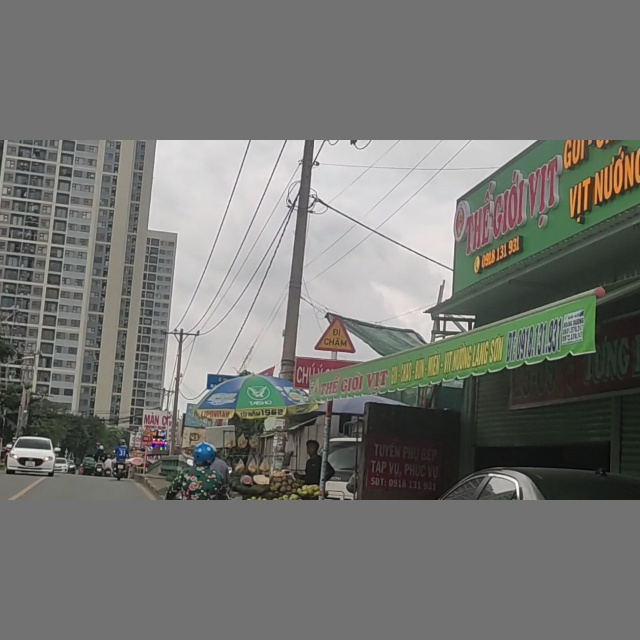W.245a: (313, 314, 357, 353)
